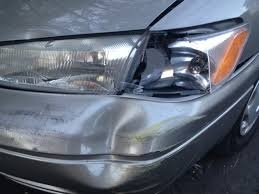Broken-glass: (118, 30, 222, 97)
Dent: (75, 100, 181, 188)
